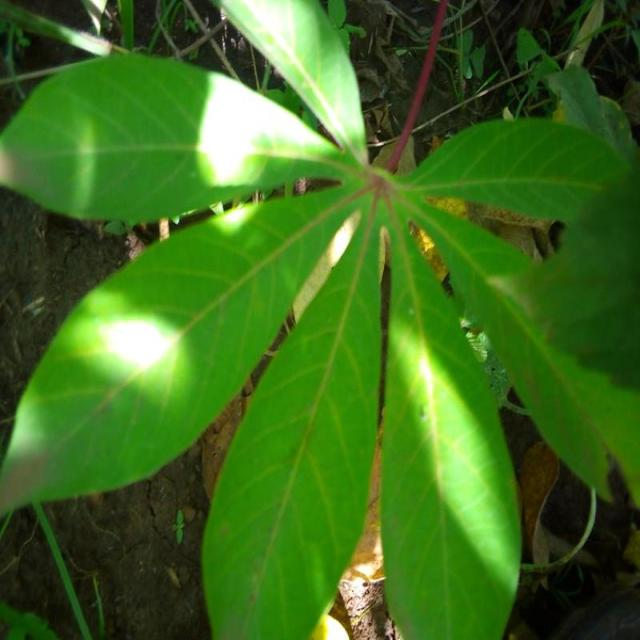cassava leaf: (0, 1, 638, 637), (0, 180, 367, 518), (200, 193, 384, 638), (378, 191, 522, 638), (0, 49, 364, 224)
